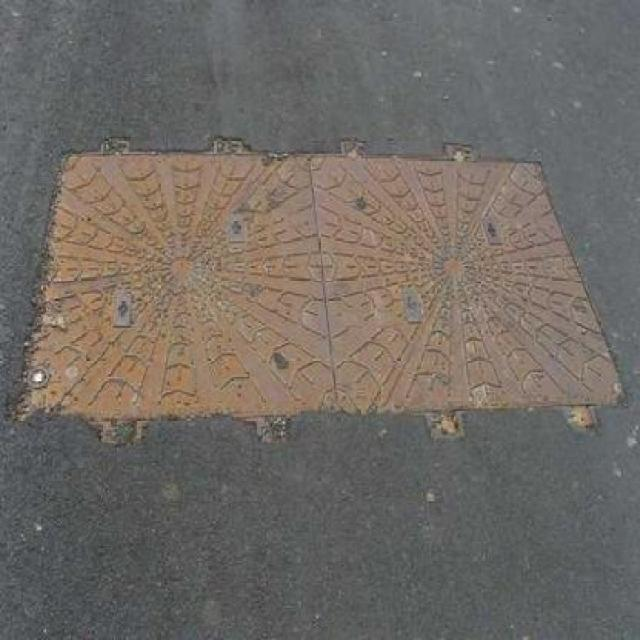Manhole: (11, 140, 634, 426)
